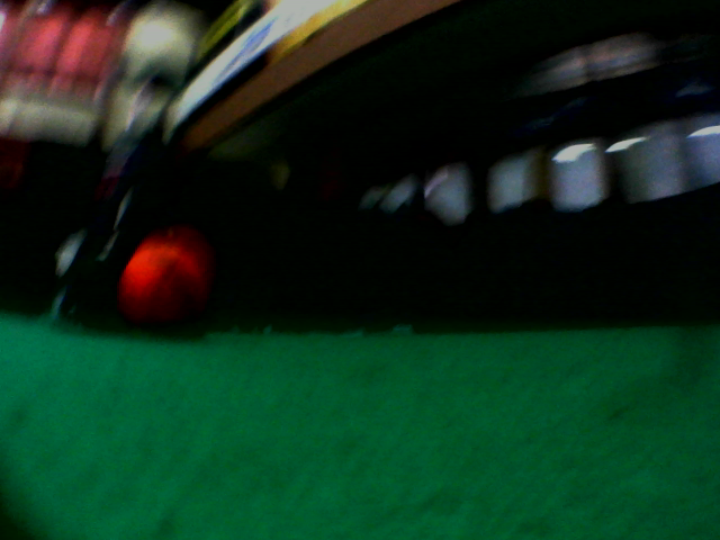bola: (112, 234, 214, 335)
